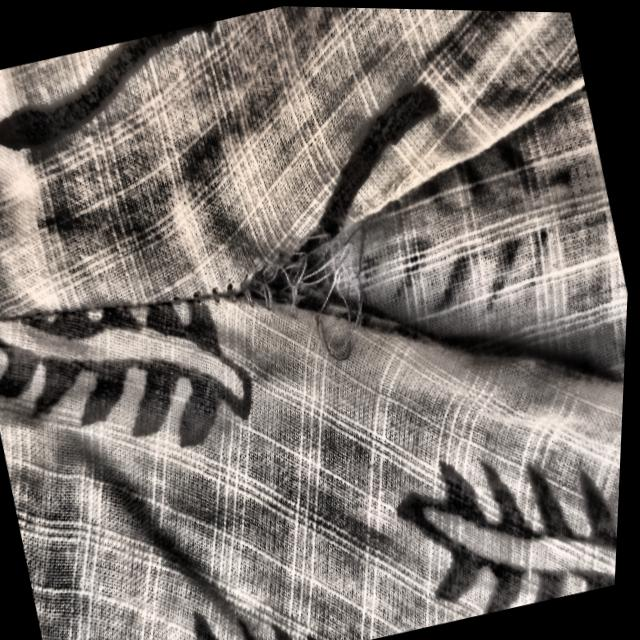Stitch: (97, 103, 437, 430)
